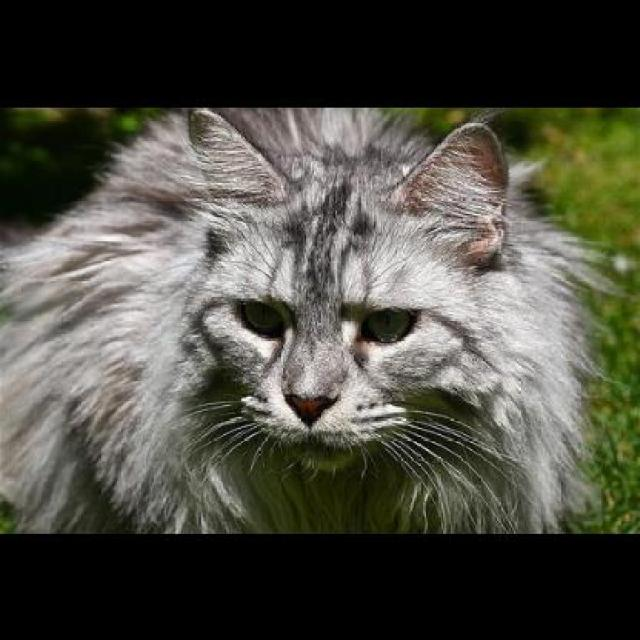unauthorized: (0, 106, 628, 534)
